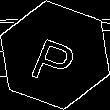P_N: (27, 25, 83, 85)
